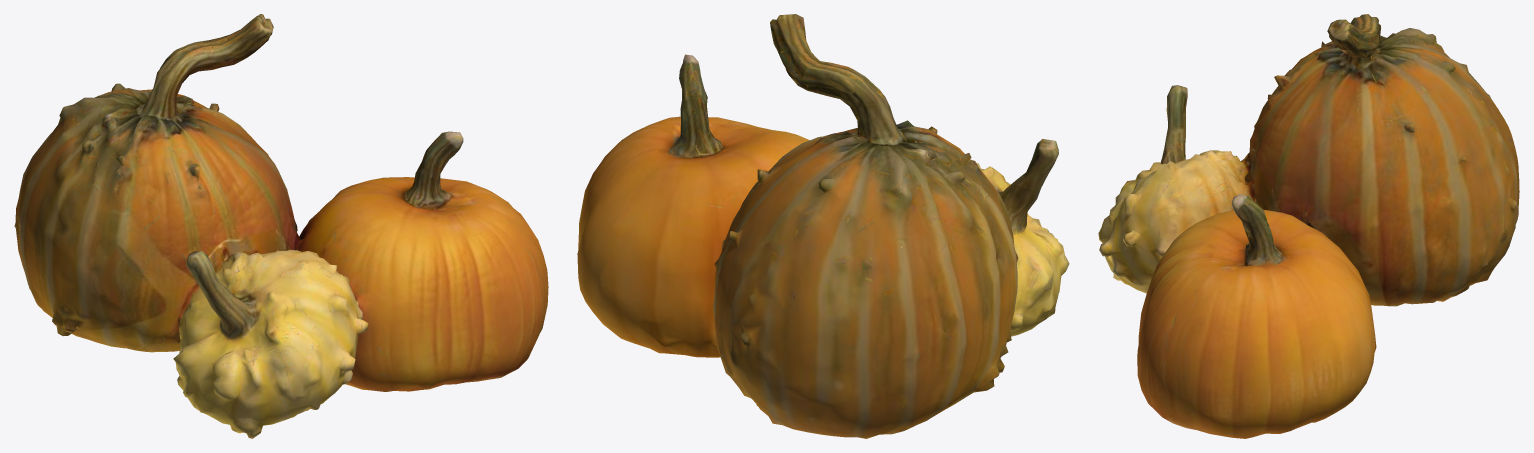
File: pumpkins.glb
3 renders of one model, left to right at view 1: azimuth 30°, elevation 25°; view 2: azimuth 150°, elevation 25°; view 3: azimuth 270°, elevation 25°, orthographic. The views are drawn at different scales.
Visible parts, largest first — view 1: model; view 2: model; view 3: model.
Part boxes in pixels (x1,y1,x2,y2): model: (14,14,548,438); model: (577,14,1069,438); model: (1098,14,1519,438).
Bounding box in the file's own units: 2.01 × 1.58 × 1.79.
Materials: 1 (1 with a texture image).
